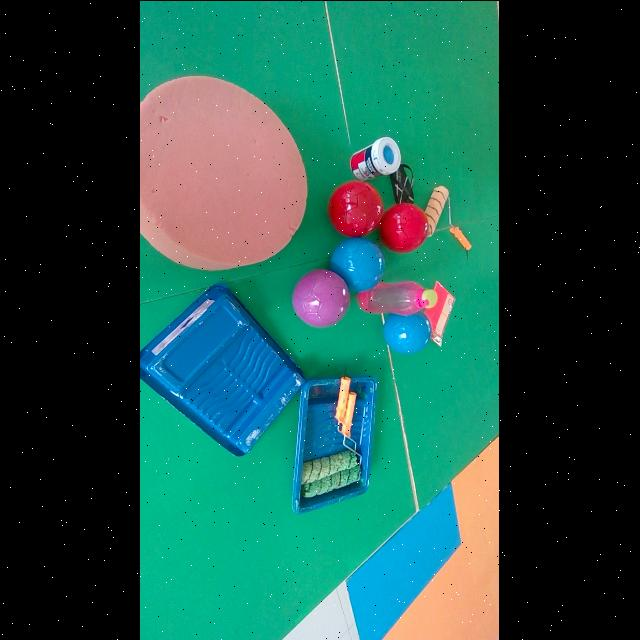B: (331, 236, 386, 291), (384, 310, 432, 353)
P: (292, 269, 351, 326)
R: (329, 179, 384, 236), (380, 203, 430, 252)
